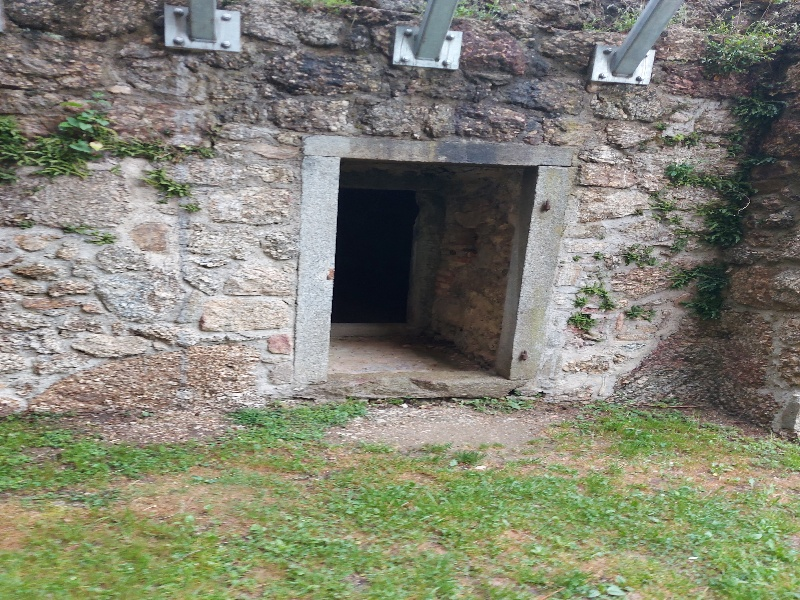door1: (299, 129, 575, 418)
